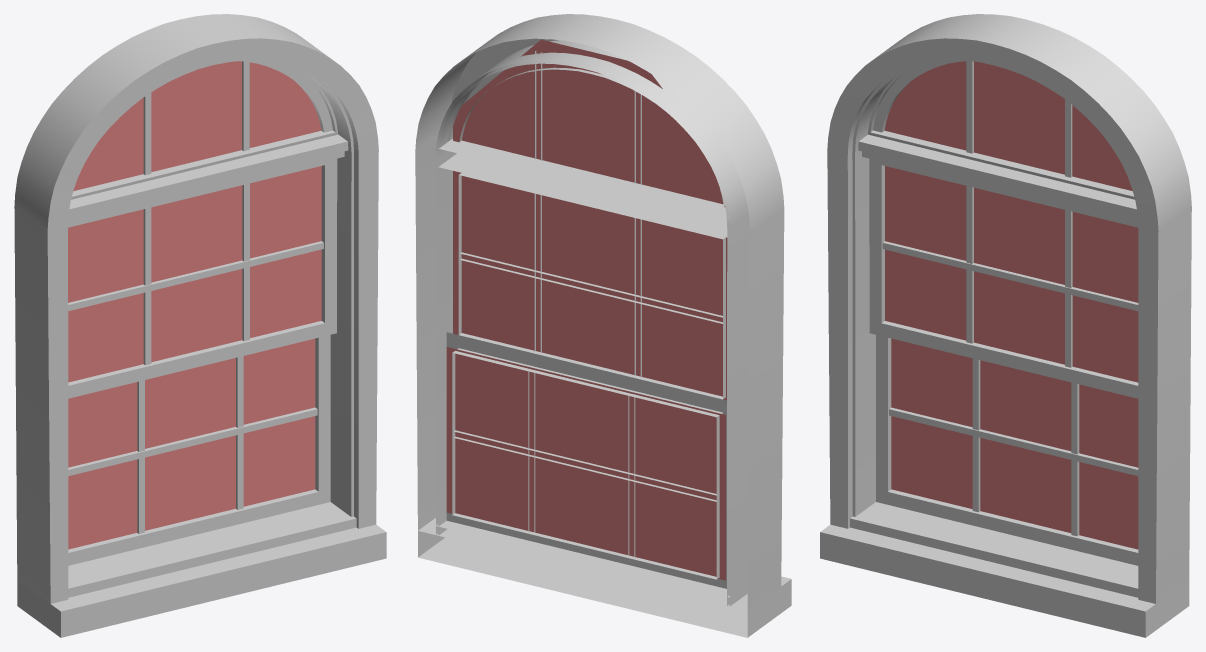
The model's file is Window_1-lp.fbx.
3 views of the same model, side by side, from view 1: azimuth 30°, elevation 25°; view 2: azimuth 150°, elevation 25°; view 3: azimuth 330°, elevation 25° (orthographic).
Parts seen in each view (by area): view 1: Window_1-bo; view 2: Window_1-bo; view 3: Window_1-bo.
Boxes of the visible parts, left/top/right/bottom form: Window_1-bo: left=14, top=14, right=386, bottom=637; Window_1-bo: left=415, top=14, right=791, bottom=637; Window_1-bo: left=820, top=14, right=1191, bottom=637.
Bounding box in the file's own units: 100 × 158 × 22.81.
